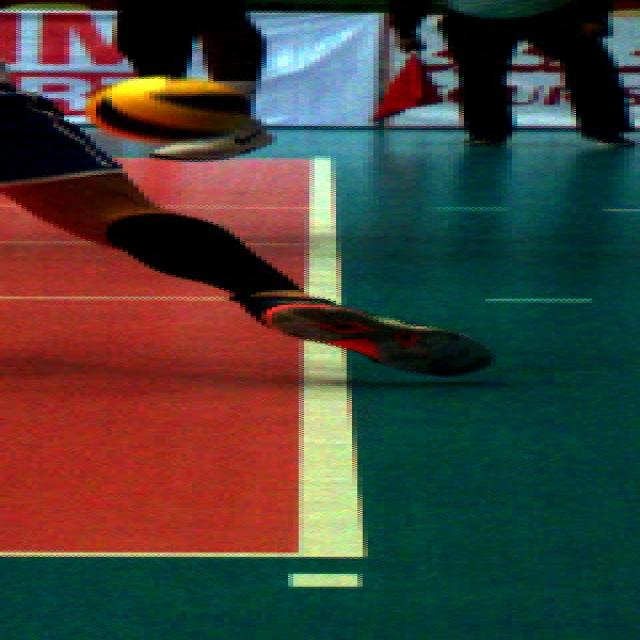Volleyball: (95, 76, 257, 143)
